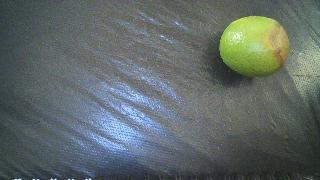DESECHO: (219, 16, 289, 77)
